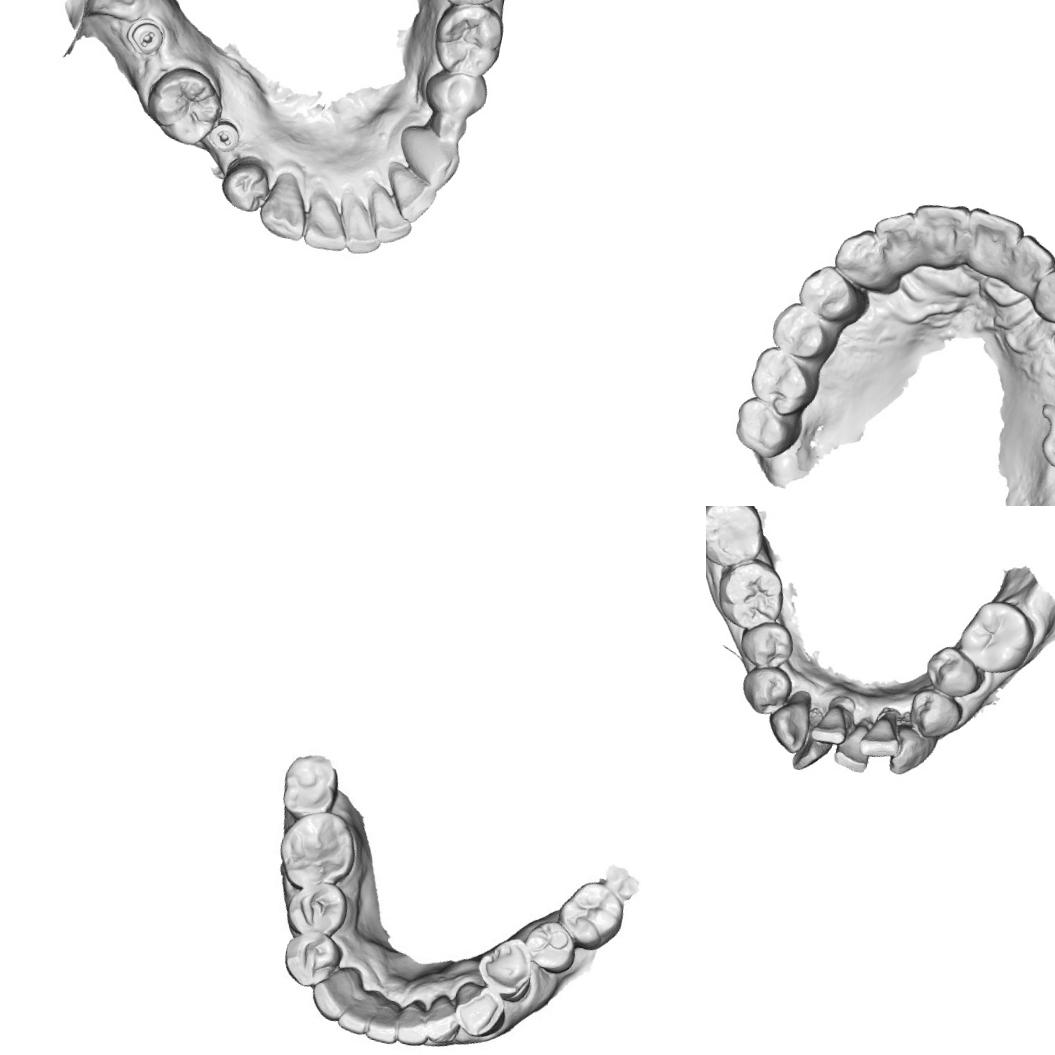canine: (390, 119, 465, 196), (253, 164, 318, 246), (829, 223, 886, 292), (450, 979, 510, 1042), (762, 691, 814, 756), (886, 721, 940, 782), (306, 966, 360, 1026), (1028, 262, 1055, 328)
implant_minus: (200, 112, 246, 162), (121, 13, 168, 60)
incisor: (958, 205, 1026, 282), (904, 196, 971, 272), (298, 185, 358, 256), (331, 188, 390, 258), (379, 164, 442, 228), (358, 185, 419, 249), (865, 204, 918, 276), (1002, 230, 1055, 299), (830, 717, 875, 774), (856, 712, 904, 762), (422, 994, 464, 1047), (808, 699, 852, 748), (362, 997, 405, 1047), (333, 988, 377, 1036), (394, 1001, 434, 1052), (789, 736, 833, 776)
molar: (137, 58, 228, 151), (272, 806, 359, 896), (952, 592, 1041, 679), (425, 0, 509, 83), (709, 552, 789, 637), (551, 874, 630, 956), (743, 342, 824, 420), (728, 391, 806, 466), (276, 747, 343, 822), (706, 506, 772, 573)
premolar: (792, 258, 865, 326), (472, 931, 540, 1004), (419, 59, 494, 124), (276, 924, 344, 993), (282, 875, 352, 942), (766, 298, 834, 364), (213, 150, 278, 218), (518, 914, 581, 978), (921, 642, 987, 701), (735, 614, 797, 674), (904, 686, 966, 744), (737, 660, 795, 718)
